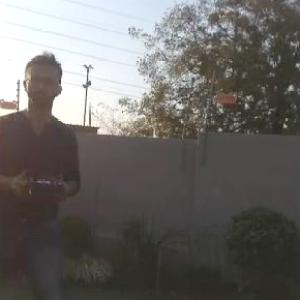follow: (0, 51, 93, 299)
